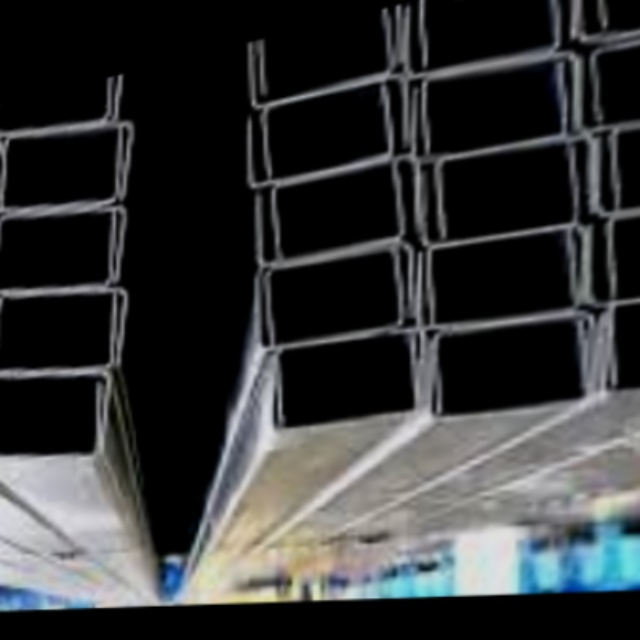Shveller: (417, 141, 579, 248), (423, 48, 578, 157), (438, 130, 595, 233), (416, 60, 570, 161), (429, 226, 588, 323), (437, 313, 593, 411), (419, 231, 579, 326), (431, 324, 588, 417), (256, 167, 403, 264), (259, 251, 403, 350), (276, 157, 418, 257), (250, 88, 394, 186), (2, 112, 135, 218), (271, 245, 412, 344), (265, 78, 406, 176), (250, 7, 391, 103), (281, 332, 424, 424), (0, 276, 127, 379), (274, 338, 417, 429), (0, 119, 122, 224), (264, 4, 401, 95), (0, 199, 126, 296), (407, 0, 559, 80), (0, 204, 116, 302), (0, 283, 116, 375), (424, 0, 576, 69), (0, 367, 110, 459), (0, 377, 99, 464), (0, 74, 123, 144), (0, 77, 112, 143), (577, 40, 640, 135), (589, 215, 640, 308), (590, 35, 640, 128), (593, 127, 640, 219), (579, 0, 640, 43)
